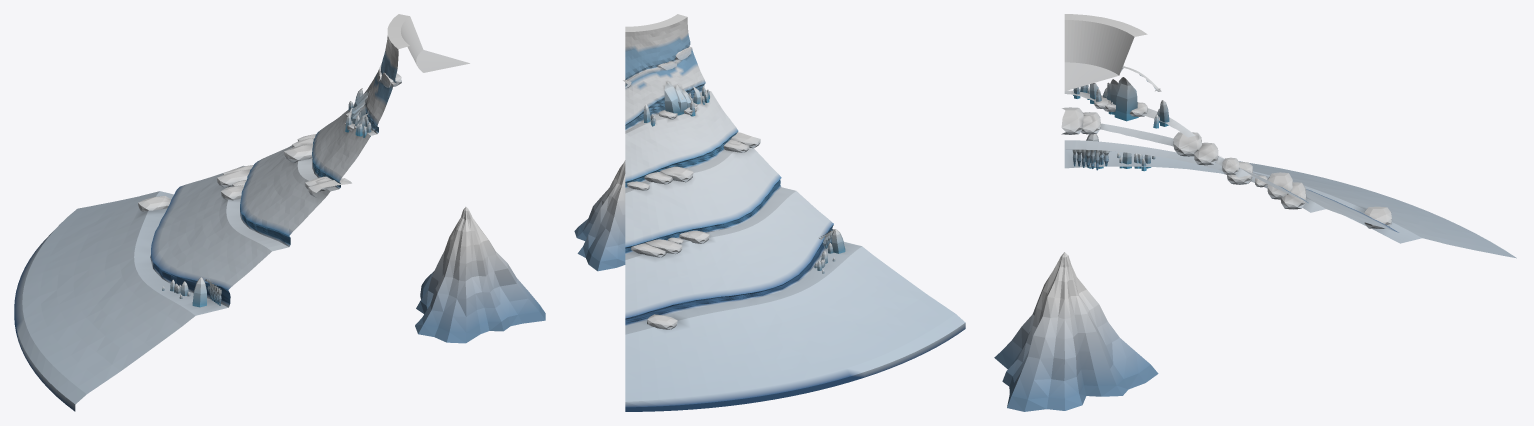
Rendered from glacier-s3-CNdLBQF0.glb.
3 renders of one model, left to right at view 1: azimuth 30°, elevation 25°; view 2: azimuth 150°, elevation 25°; view 3: azimuth 270°, elevation 25°, orthographic. The views are drawn at different scales.
Visible parts, largest first — view 1: sc_landmark_2, sc_peak_2; view 2: sc_landmark_2, sc_peak_2; view 3: sc_landmark_2, sc_peak_2.
Boxes of the visible parts, x1,y1,x2,y2 form: sc_landmark_2: (14,14,469,411); sc_peak_2: (415,207,545,343); sc_landmark_2: (623,14,965,411); sc_peak_2: (574,160,625,271); sc_landmark_2: (1061,14,1516,258); sc_peak_2: (994,252,1158,411).
Bounding box in the file's own units: 479 × 286 × 416.
